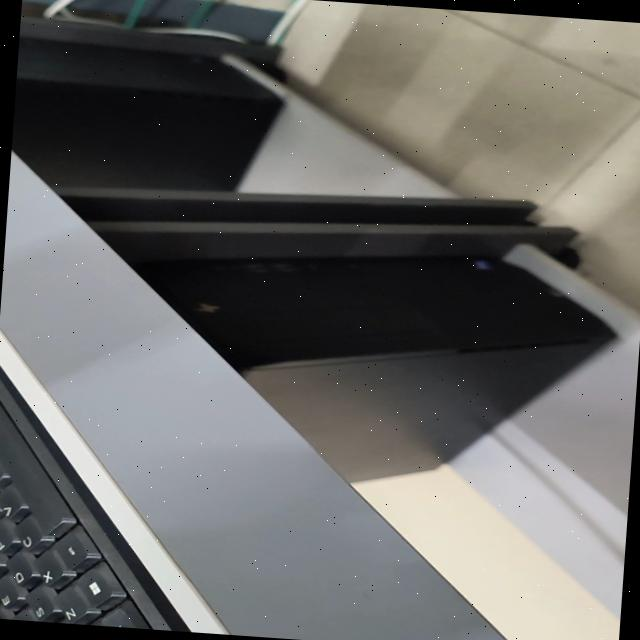Cpu: (141, 255, 614, 481), (11, 36, 282, 190)
Keyboard: (0, 367, 180, 631)
